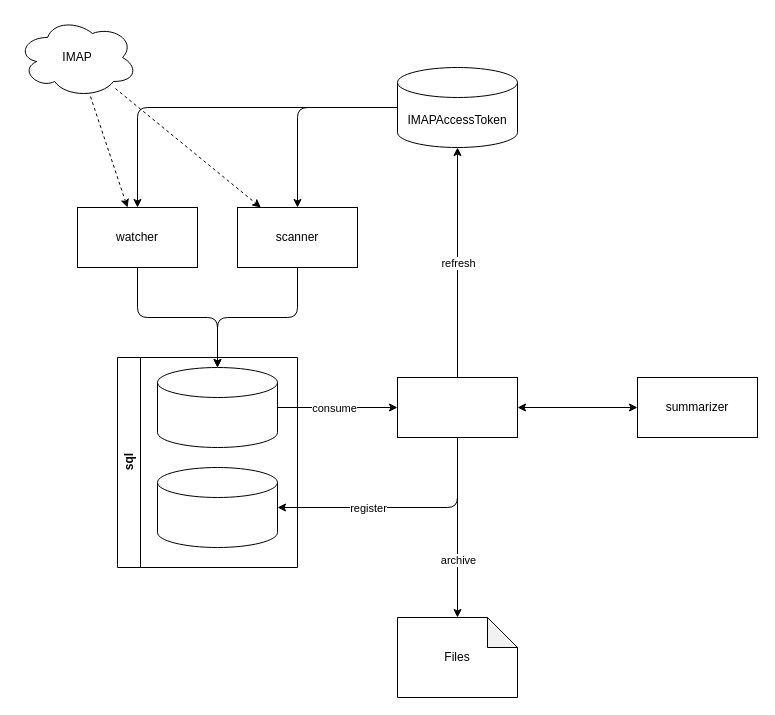
This 775x715 diagram has some shape labels left out. Each missing label, with the centre of its shape:
"EMailsIndex" belongs at [217,507].
"EventQueue" belongs at [217,407].
"orchestrator" belongs at [457,407].
